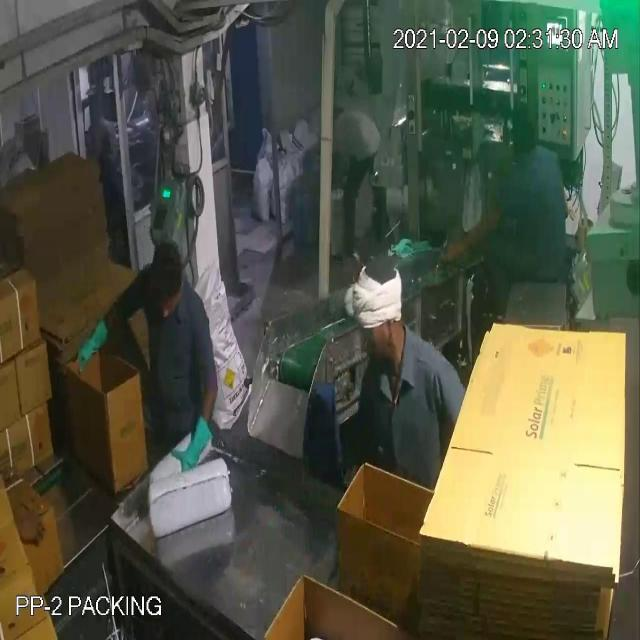No_Gloves: (30, 72, 470, 526)
